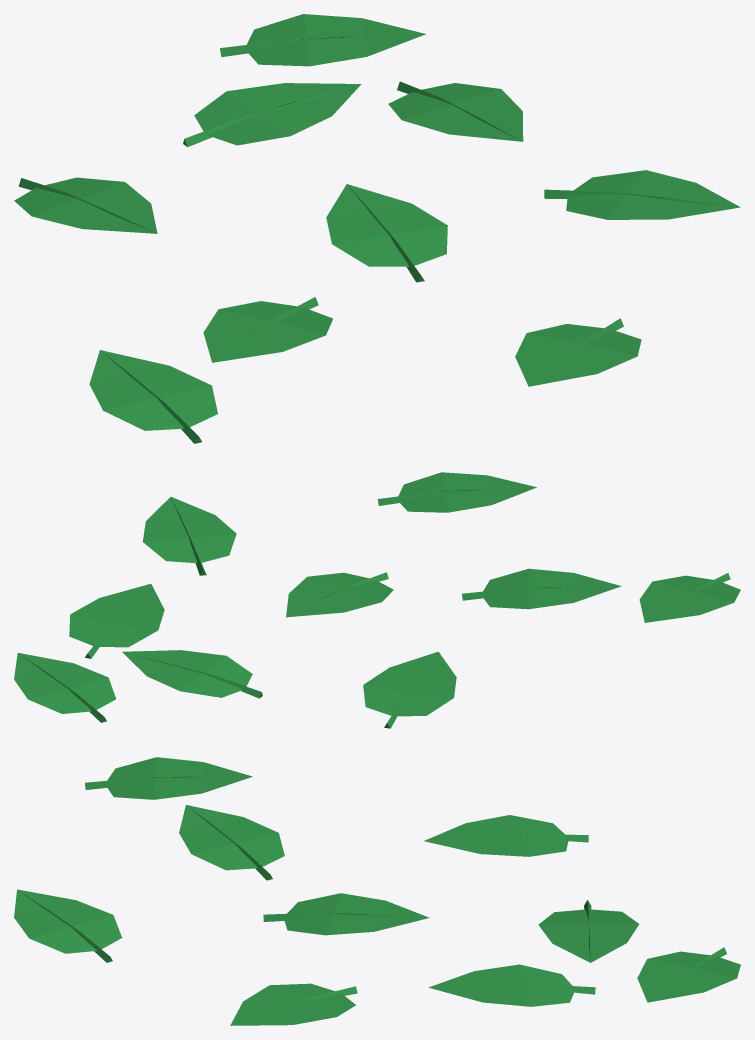
The model's file is salal-leaves.glb.
3 views of the same model, one above another, from view 1: azimuth 30°, elevation 25°; view 2: azimuth 150°, elevation 25°; view 3: azimuth 270°, elevation 25° (orthographic). The views are drawn at different scales.
Visible parts, largest first — view 1: Plane.037, Plane.038, Plane, Plane.040, Plane.044, Plane.039, Plane.043, Plane.041, Plane.042; view 2: Plane.044, Plane.039, Plane.043, Plane.040, Plane, Plane.042, Plane.041, Plane.037, Plane.038; view 3: Plane.041, Plane.042, Plane.038, Plane.043, Plane.037, Plane.039, Plane.044, Plane.040, Plane.
Boxes of the visible parts, x1=… form: Plane.037: x1=326, y1=184, x2=447, y2=282; Plane.038: x1=89, y1=350, x2=217, y2=443; Plane: x1=183, y1=83, x2=361, y2=146; Plane.040: x1=220, y1=14, x2=425, y2=66; Plane.044: x1=544, y1=170, x2=740, y2=219; Plane.039: x1=14, y1=177, x2=157, y2=233; Plane.043: x1=388, y1=81, x2=523, y2=141; Plane.041: x1=203, y1=297, x2=332, y2=362; Plane.042: x1=515, y1=318, x2=641, y2=386; Plane.044: x1=142, y1=497, x2=236, y2=575; Plane.039: x1=363, y1=651, x2=456, y2=728; Plane.043: x1=69, y1=584, x2=164, y2=658; Plane.040: x1=14, y1=653, x2=115, y2=722; Plane: x1=122, y1=650, x2=262, y2=698; Plane.042: x1=377, y1=472, x2=536, y2=512; Plane.041: x1=462, y1=568, x2=621, y2=609; Plane.037: x1=286, y1=572, x2=393, y2=617; Plane.038: x1=639, y1=573, x2=740, y2=622; Plane.041: x1=179, y1=805, x2=284, y2=880; Plane.042: x1=14, y1=889, x2=121, y2=962; Plane.038: x1=85, y1=757, x2=252, y2=799; Plane.043: x1=428, y1=964, x2=595, y2=1006; Plane.037: x1=263, y1=893, x2=429, y2=935; Plane.039: x1=424, y1=815, x2=588, y2=856; Plane.044: x1=230, y1=983, x2=357, y2=1025; Plane.040: x1=637, y1=947, x2=740, y2=1002; Plane: x1=538, y1=900, x2=639, y2=962.
Bounding box in the file's own units: 7.65 × 0.1797 × 8.66.
